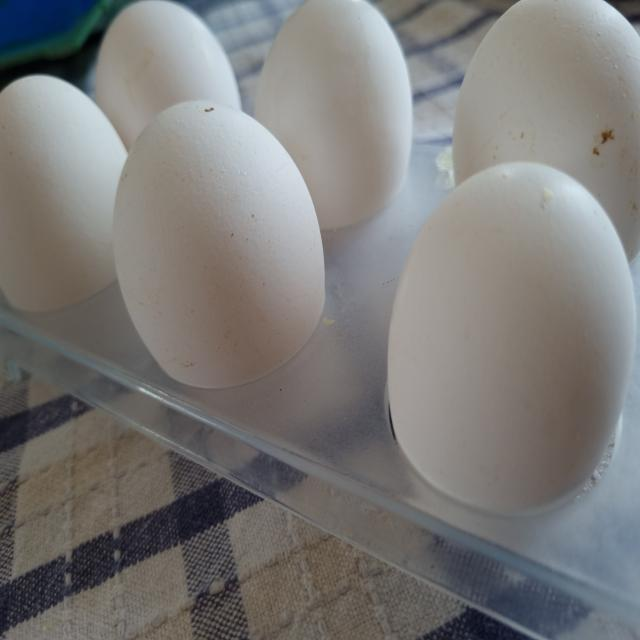Egg: (384, 161, 640, 522), (110, 98, 327, 392), (451, 0, 640, 288), (248, 0, 414, 233), (0, 75, 128, 316), (89, 1, 243, 152)
